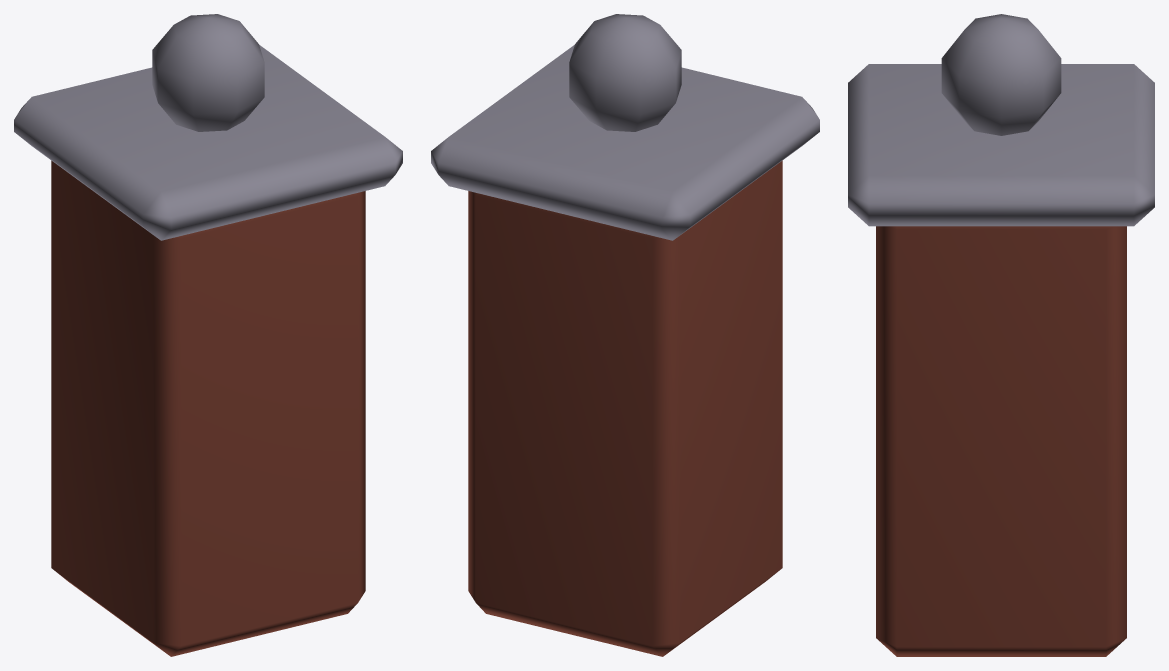
Rendered from parapet_corner.glb.
The picture shows the model from 3 angles, left to right: view 1: azimuth 30°, elevation 25°; view 2: azimuth 150°, elevation 25°; view 3: azimuth 270°, elevation 25°; orthographic projection. The views are drawn at different scales.
Visible parts, largest first — view 1: parapet_corner; view 2: parapet_corner; view 3: parapet_corner.
Boxes of the visible parts, box(x1,y1,x2,y2) form: parapet_corner: box(14, 14, 402, 656); parapet_corner: box(431, 14, 819, 656); parapet_corner: box(848, 14, 1154, 656).
Size of the model in its own units: 0.44 by 0.94 by 0.44.
